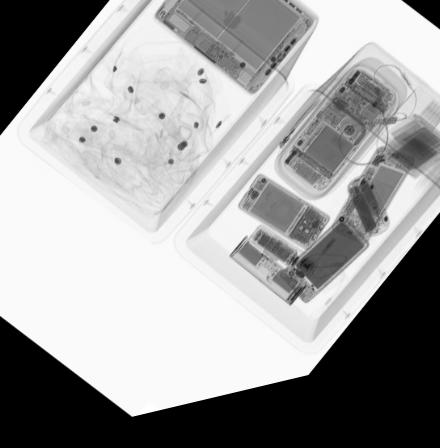Powerbank: (275, 228, 371, 319)
